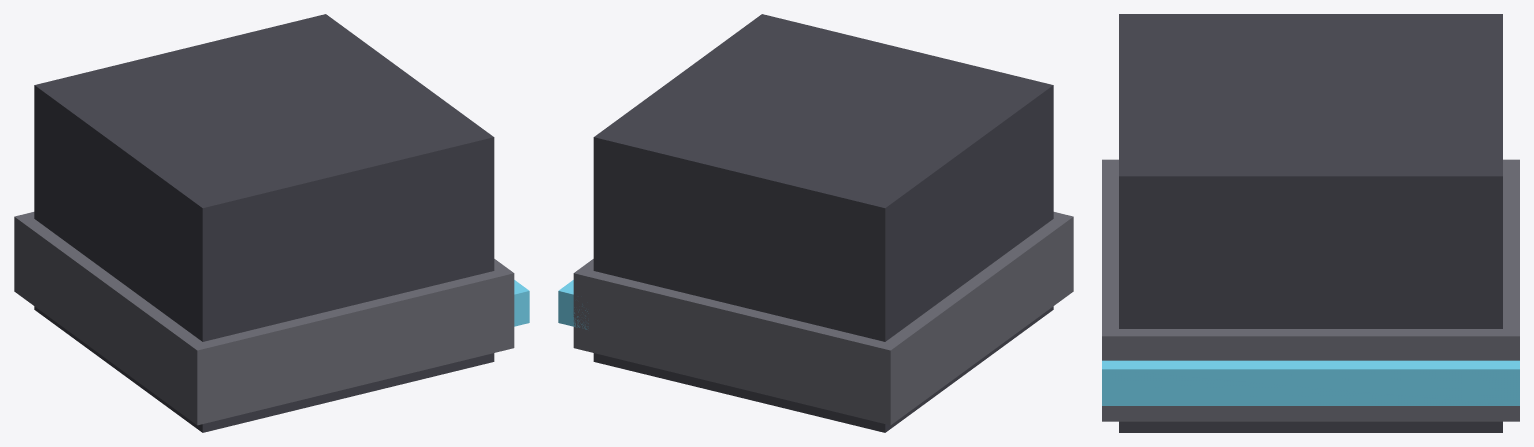
Rendered from cauboi_neon_manga_inf.glb.
The picture shows the model from 3 angles, left to right: view 1: azimuth 30°, elevation 25°; view 2: azimuth 150°, elevation 25°; view 3: azimuth 270°, elevation 25°; orthographic projection. The views are drawn at different scales.
Visible parts, largest first — view 1: cauboi_neon_manga_inf; view 2: cauboi_neon_manga_inf; view 3: cauboi_neon_manga_inf.
Boxes of the visible parts, box(x1,y1,x2,y2) form: cauboi_neon_manga_inf: box(14, 14, 529, 432); cauboi_neon_manga_inf: box(558, 14, 1073, 432); cauboi_neon_manga_inf: box(1102, 14, 1519, 432).
Size of the model in its own units: 0.325 by 0.21 by 0.31.
